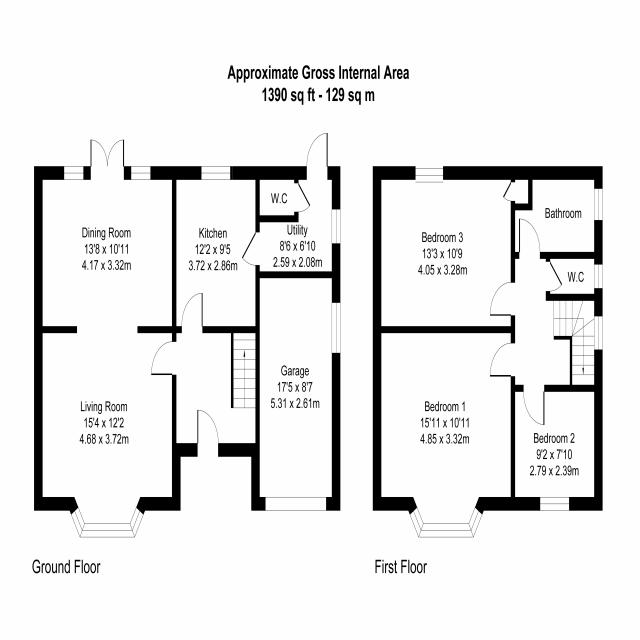DOOR: (196, 406, 221, 458), (487, 277, 516, 320), (305, 130, 329, 180), (521, 385, 548, 428), (149, 338, 177, 379), (180, 289, 204, 333), (518, 216, 542, 259), (489, 340, 515, 378), (239, 226, 260, 268), (546, 258, 566, 293)
DOUBLE DOOR: (89, 137, 126, 180)
ROOM: (33, 133, 175, 540), (373, 326, 515, 537), (373, 166, 533, 333), (172, 166, 260, 333), (511, 384, 603, 511)
WINDOW: (69, 503, 146, 541), (406, 503, 484, 540), (330, 298, 342, 356), (414, 164, 445, 185), (538, 495, 571, 514), (330, 206, 342, 247), (593, 313, 604, 352), (130, 164, 152, 182), (593, 186, 604, 221), (63, 164, 84, 182), (593, 262, 604, 289)
